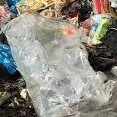garbage: (2, 1, 116, 117)
